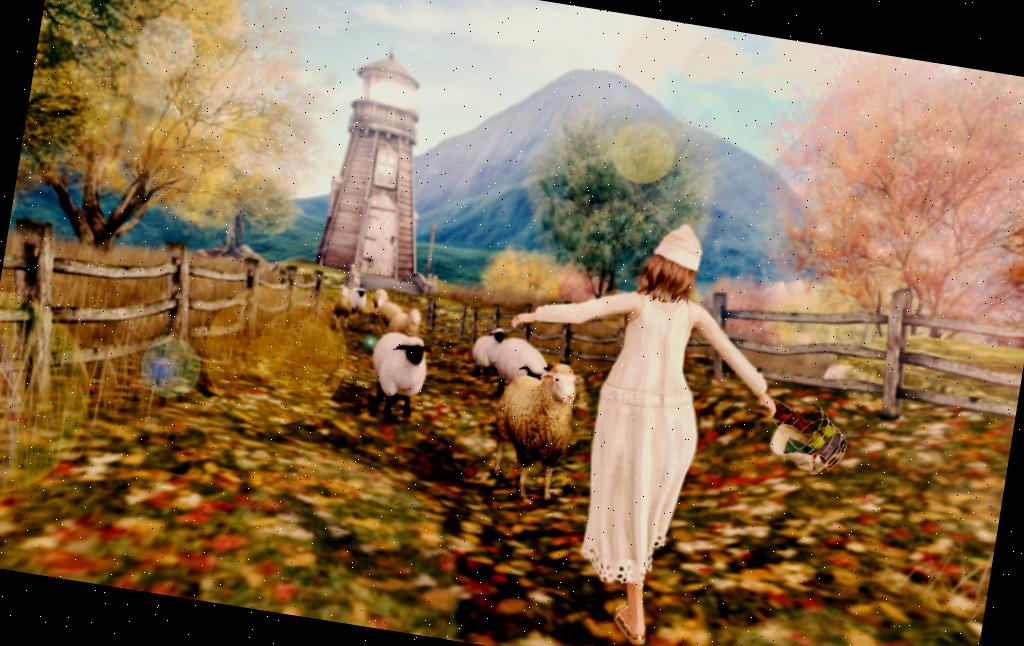Sheep: (483, 351, 584, 510), (360, 330, 436, 418), (490, 330, 552, 396), (465, 324, 509, 384), (386, 303, 424, 337), (346, 282, 370, 319), (367, 287, 390, 317)
